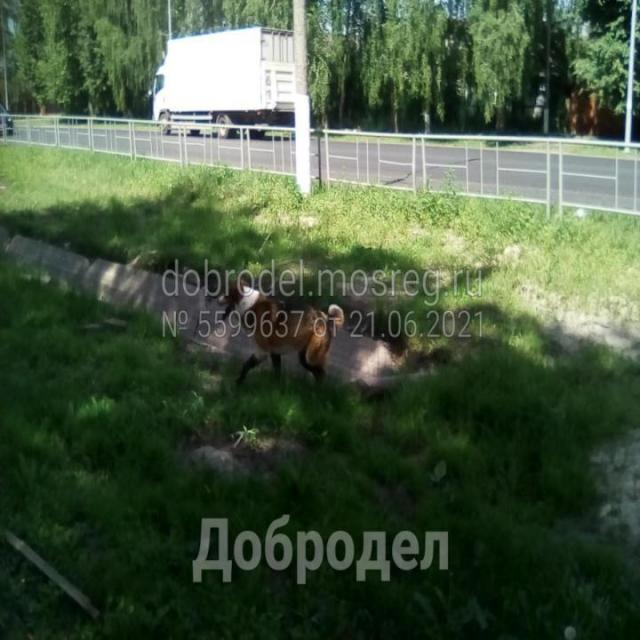dog: (201, 273, 350, 401)
